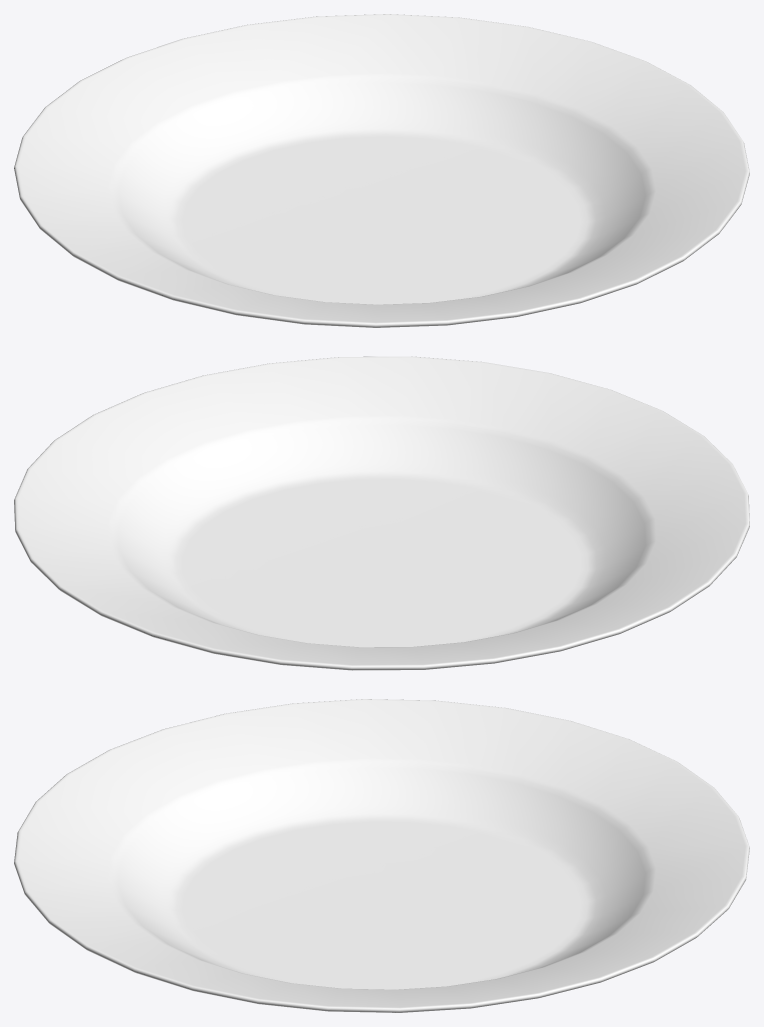
The model's file is plate textured.fbx.
3 renders of one model, top to bottom at view 1: azimuth 30°, elevation 25°; view 2: azimuth 150°, elevation 25°; view 3: azimuth 270°, elevation 25°, orthographic.
Parts seen in each view (by area): view 1: Plate part; view 2: Plate part; view 3: Plate part.
Part boxes in pixels (box(x1,y1,x2,y2)): Plate part: box(14, 14, 749, 327); Plate part: box(14, 356, 749, 670); Plate part: box(14, 699, 749, 1012).
Bounding box in the file's own units: 763 × 77.75 × 763.
